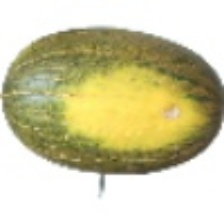honeydew: (24, 26, 224, 175)
